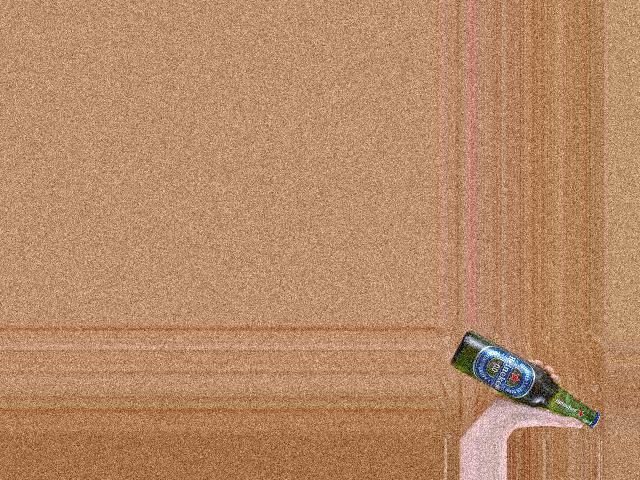beer: (449, 331, 600, 428)
